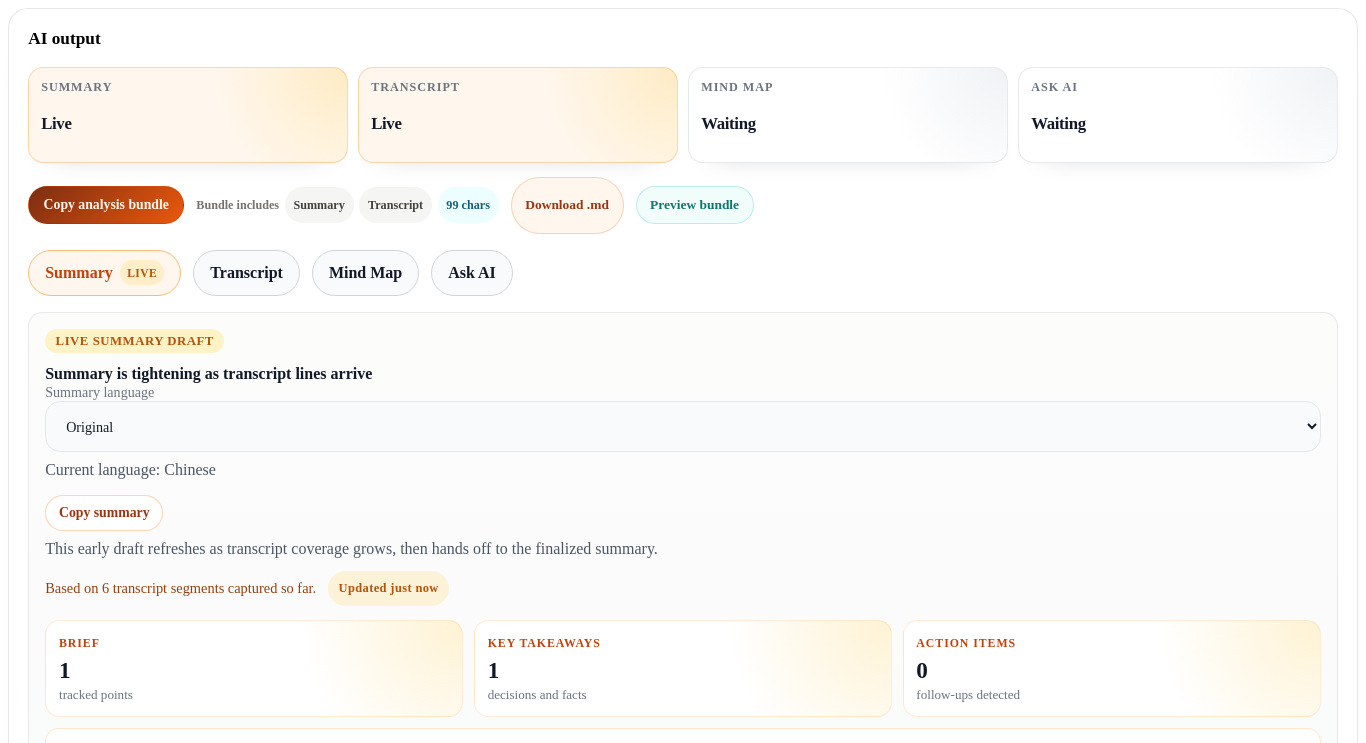
Test case: shows a live segment counter while transcript lines are streaming
Click the tab "Transcript": (247, 273) x1=193 y1=250 x2=300 y2=296
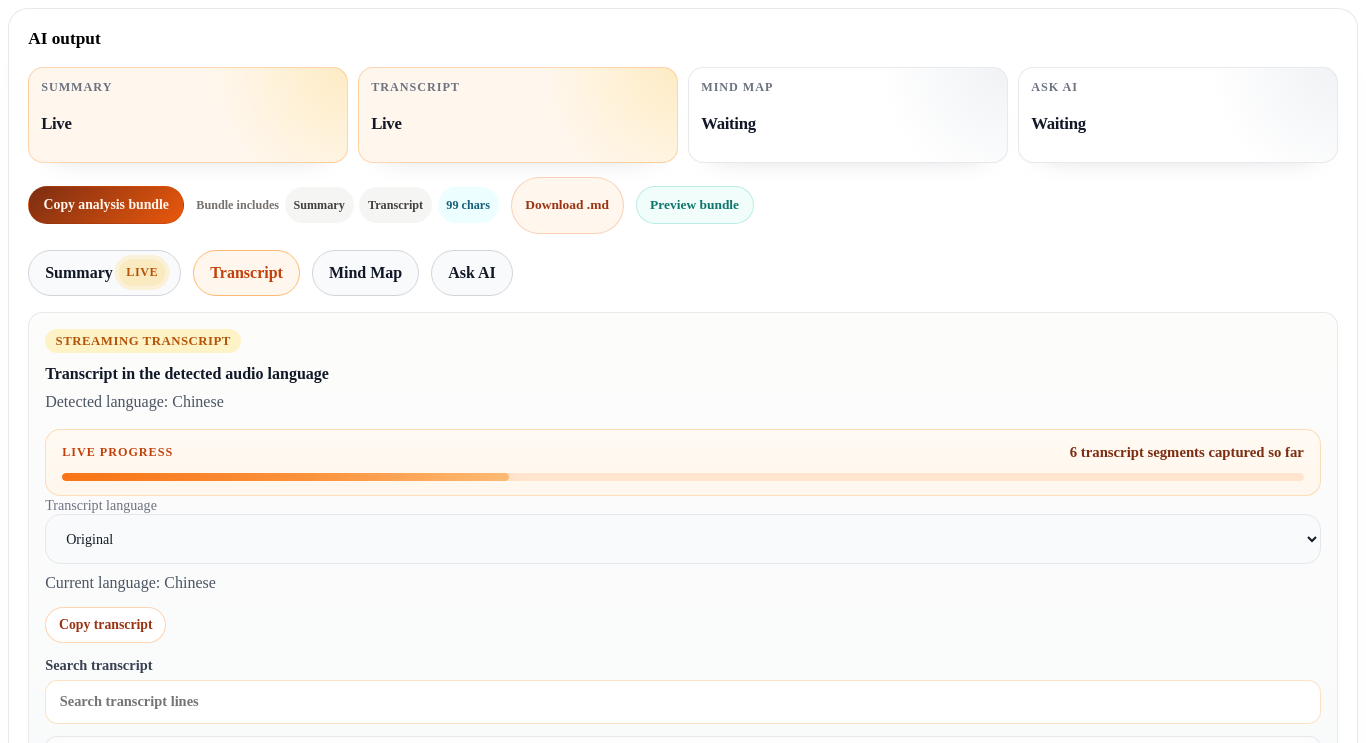
Check: the text "6 transcript segments captured so far" is shown, box x1=1070 y1=444 x2=1304 y2=461
Check: the text "Streaming transcript" is shown, box x1=45 y1=329 x2=241 y2=353
Check: the text "Live progress" is shown, box x1=62 y1=445 x2=173 y2=460
